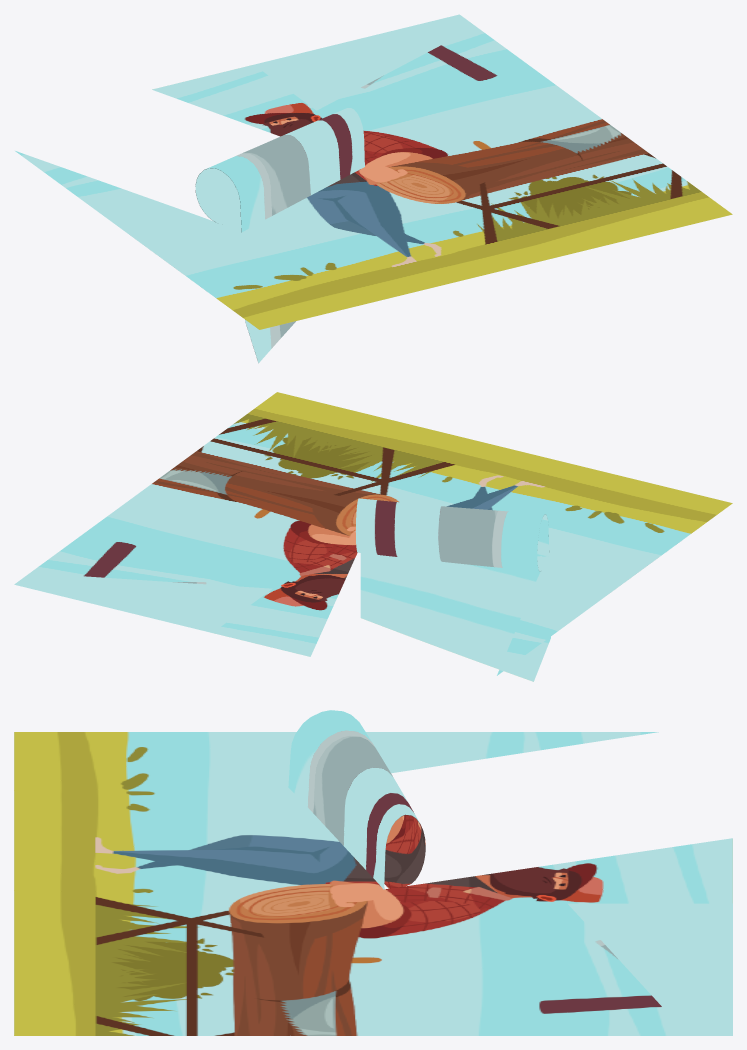
Rendered from Level 71.fbx.
3 renders of one model, top to bottom at view 1: azimuth 30°, elevation 25°; view 2: azimuth 150°, elevation 25°; view 3: azimuth 270°, elevation 25°, orthographic. The views are drawn at different scales.
Visible parts, largest first — view 1: background, canon; view 2: background, canon; view 3: background, canon.
Part boxes in pixels (x1,y1,x2,y2): background: (15, 14, 732, 329); canon: (195, 108, 364, 363); background: (14, 392, 732, 675); canon: (355, 498, 550, 681); background: (14, 732, 732, 1035); canon: (288, 710, 425, 889).
Bounding box in the file's own units: 2400 × 916 × 2400.
